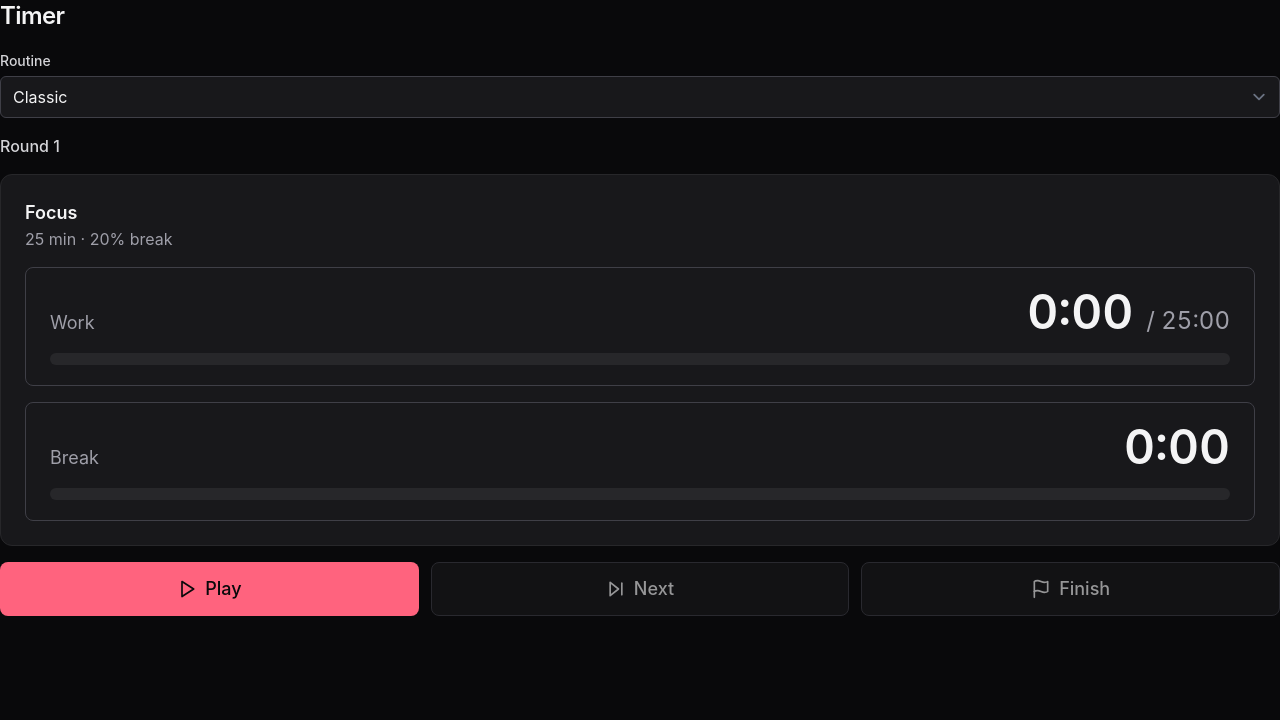
Scenario: running a routine from the Timer screen › keeps the run going, as if Finish had not been pressed, when the user cancels
Click the button "Play": coordinates (209, 589) [0,562,419,616]
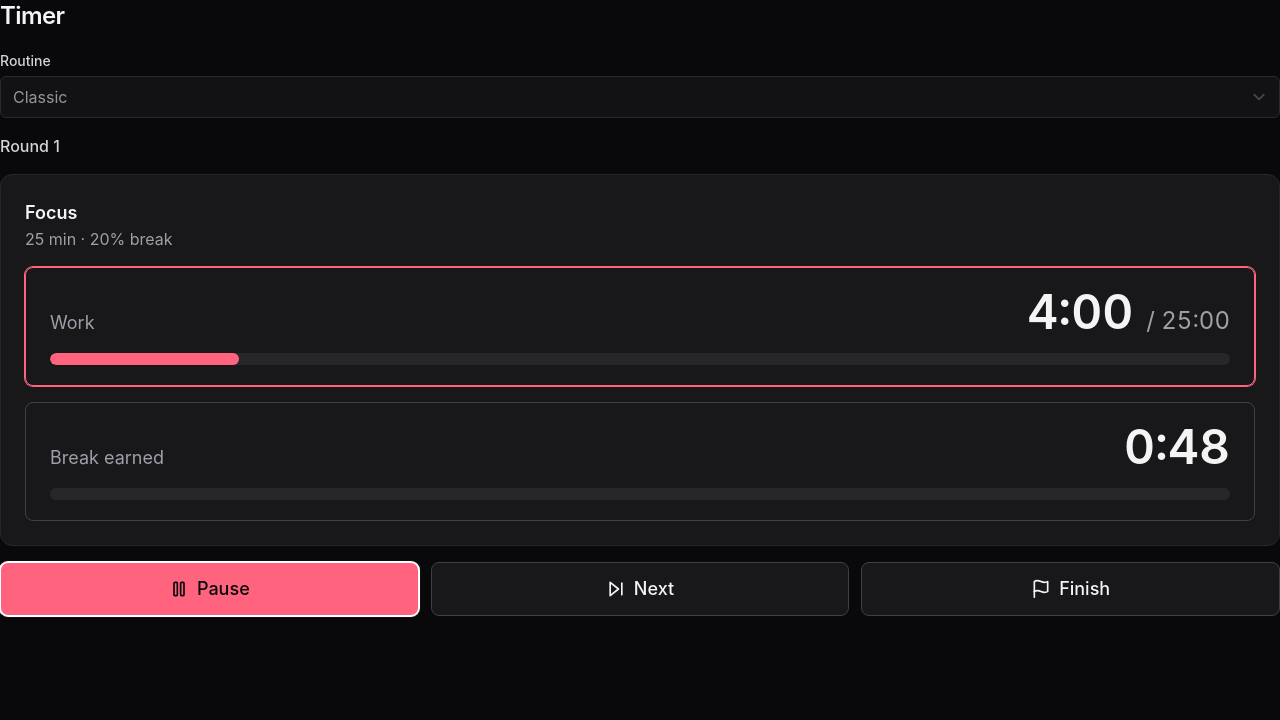
Click the button "Finish": coordinates (1071, 589) [861,562,1279,616]
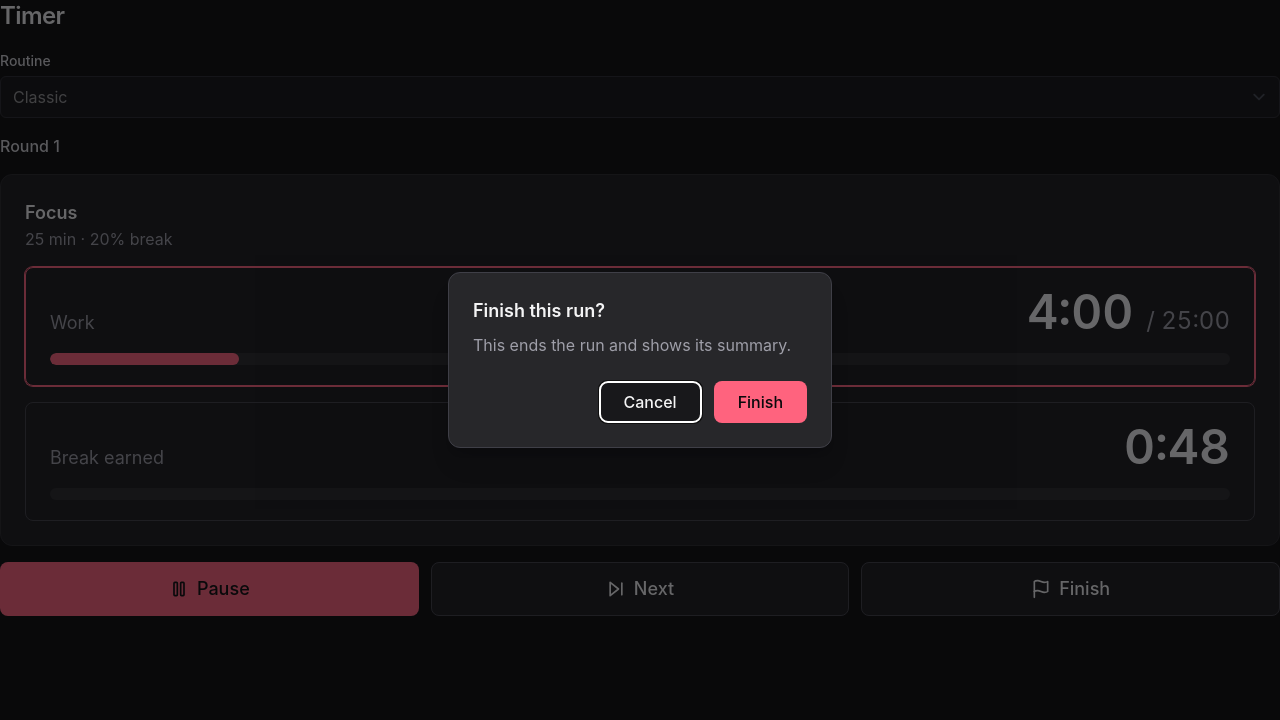
Click the button "Cancel": coordinates (650, 402) [598,381,702,423]
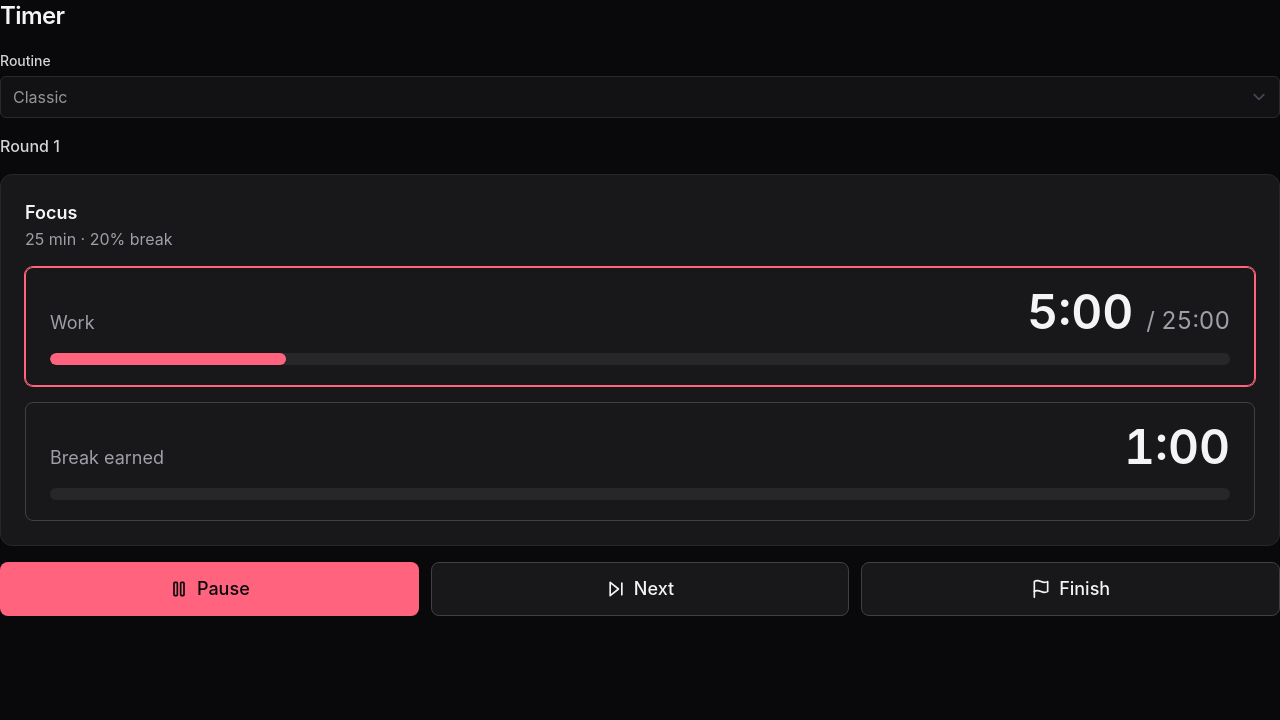
expect the button "Pause" is shown: met, box [0,562,419,616]
expect the element "Work 5:00 / 25:00" is shown: met, box [25,267,1255,386]
